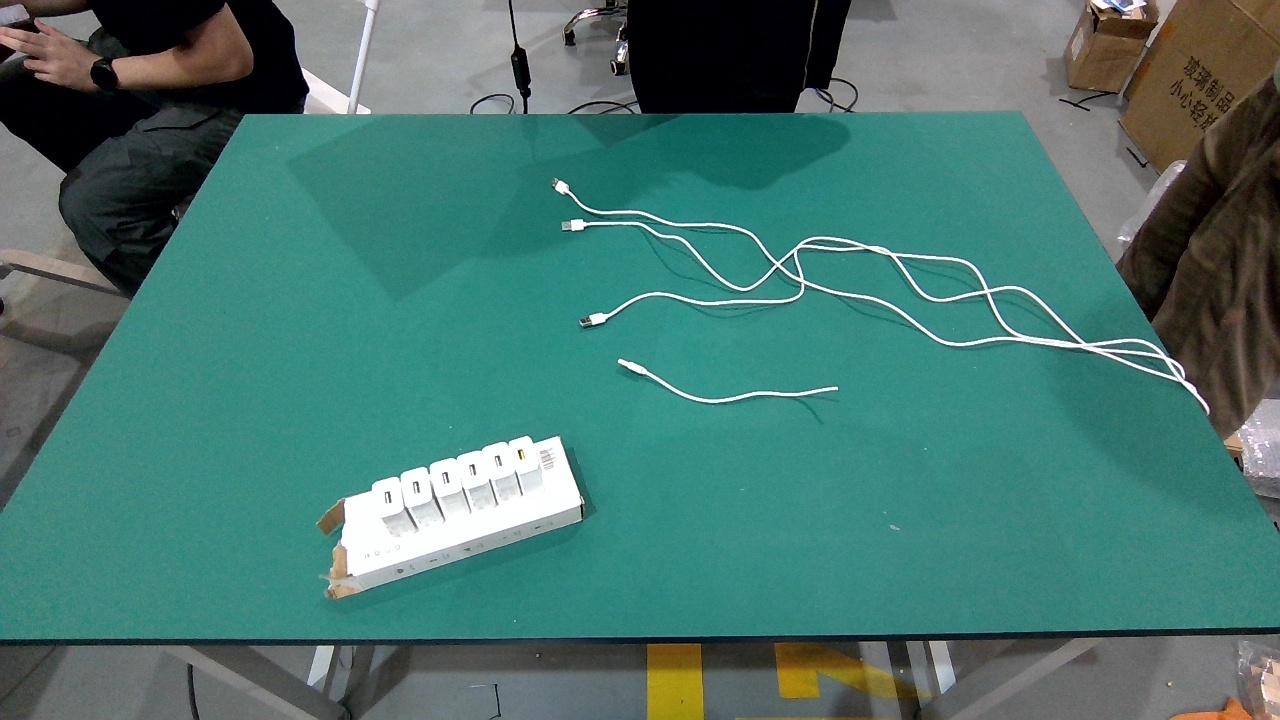usb_a_port: (466, 462, 480, 478), (410, 479, 422, 496), (492, 453, 504, 469), (440, 470, 451, 486), (383, 489, 393, 506), (515, 448, 527, 462)
